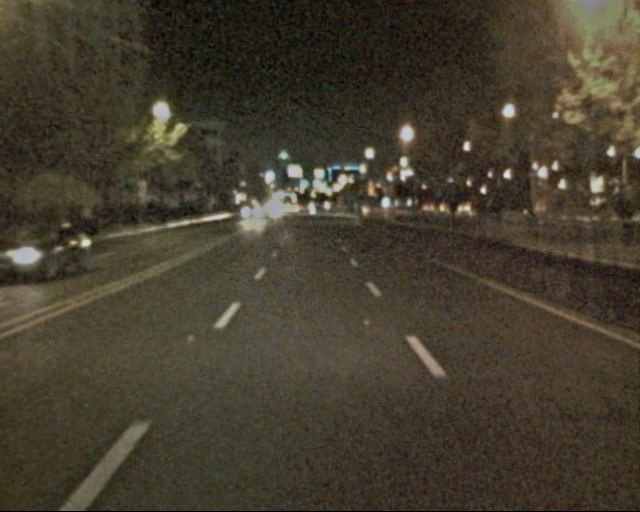person: (602, 184, 633, 260), (478, 190, 505, 225)
